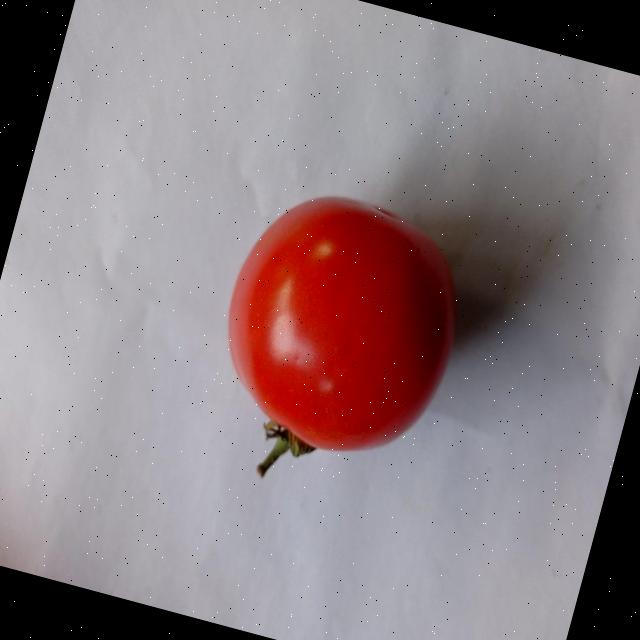Ripe: (188, 163, 487, 490)
